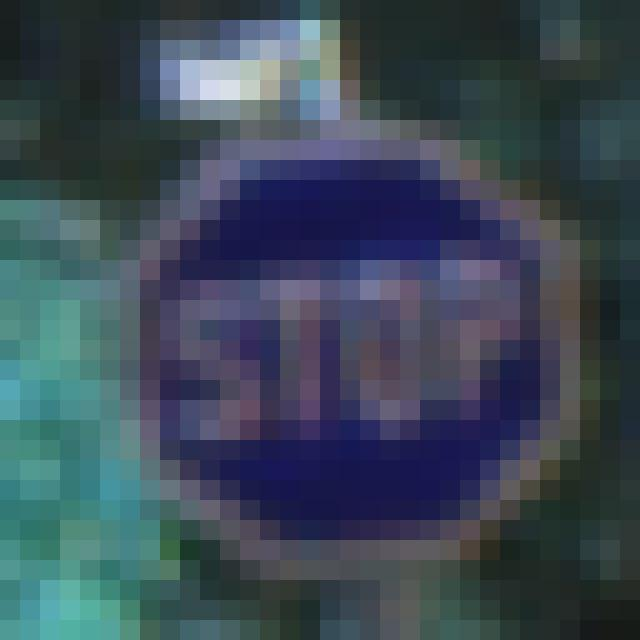STOP: (130, 147, 562, 550)
